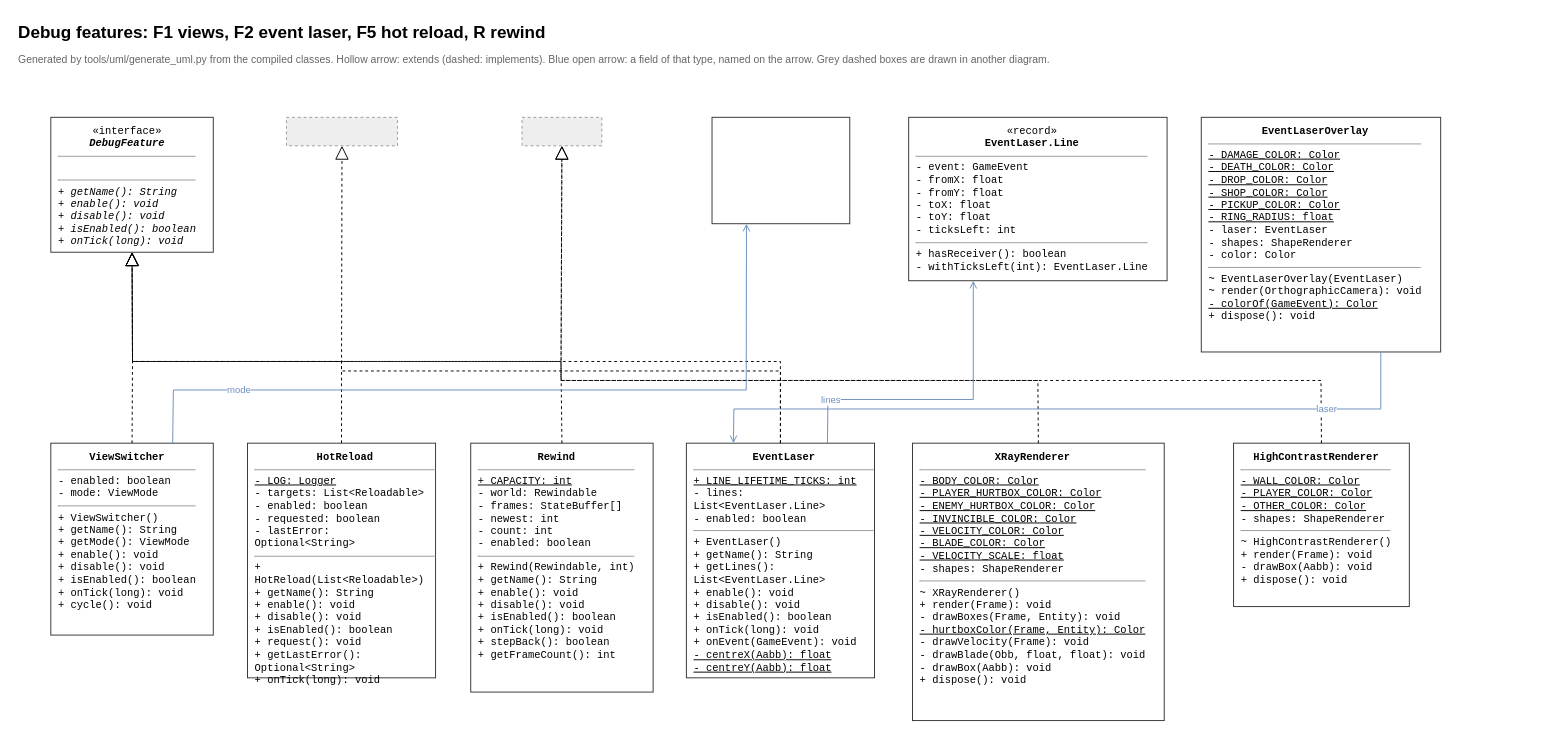
This 1552x737 diagram has some shape labels left out. Here are the shapes that lost their labels. From the top down, the box of each, then its label:
(285, 116, 398, 146): EventListener
(521, 116, 602, 146): Renderer
(711, 116, 850, 224): «enum» ViewMode SPRITES XRAY HIGH_CONTRAST + next(): ViewMode
